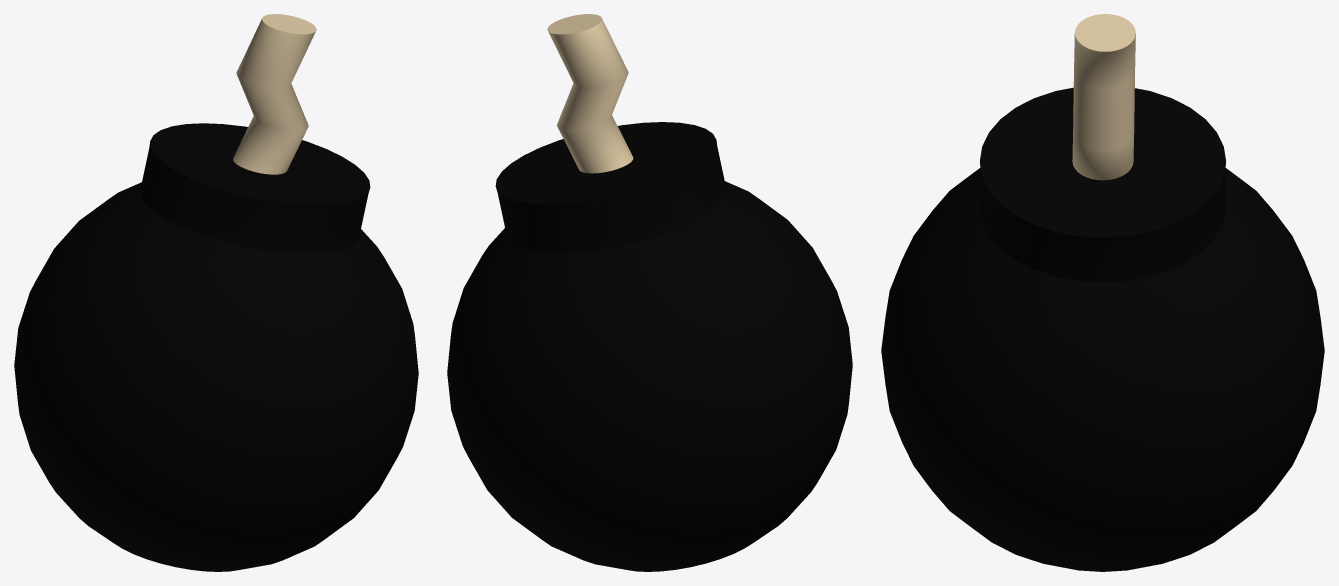
File: bomb.gltf
The picture shows the model from 3 angles, left to right: view 1: azimuth 30°, elevation 25°; view 2: azimuth 150°, elevation 25°; view 3: azimuth 270°, elevation 25°; orthographic projection. The views are drawn at different scales.
Visible parts, largest first — view 1: Bomb; view 2: Bomb; view 3: Bomb.
Boxes of the visible parts, left/top/right/bottom form: Bomb: left=14, top=14, right=418, bottom=571; Bomb: left=447, top=14, right=852, bottom=571; Bomb: left=881, top=14, right=1324, bottom=571.
Bounding box in the file's own units: 1.37 × 1.92 × 1.37.
